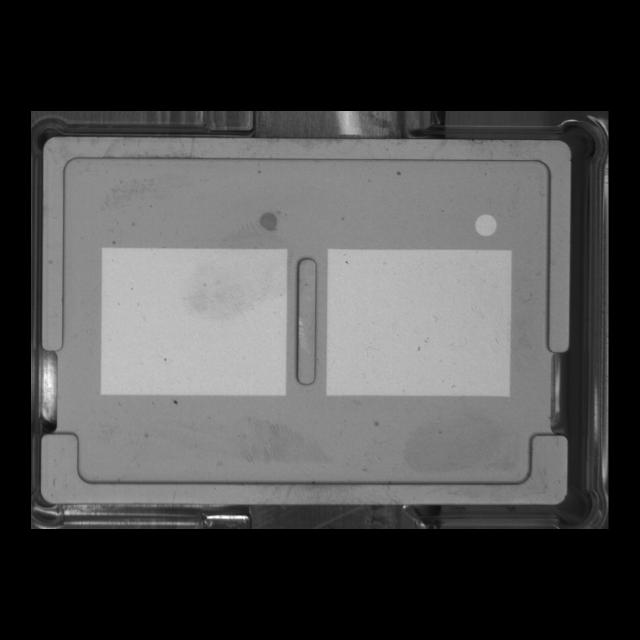door: (33, 425, 581, 513)
point: (463, 207, 506, 246)
